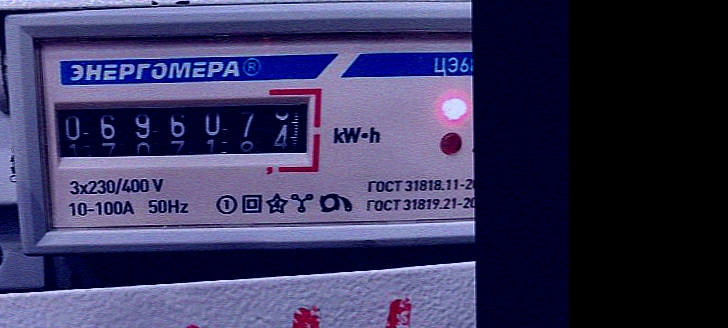0: (60, 113, 80, 143), (201, 108, 220, 138)
4: (268, 123, 288, 151)
6: (94, 111, 116, 142), (166, 110, 185, 139)
7: (236, 108, 253, 138)
9: (131, 112, 149, 141)
screen: (36, 82, 322, 176)
